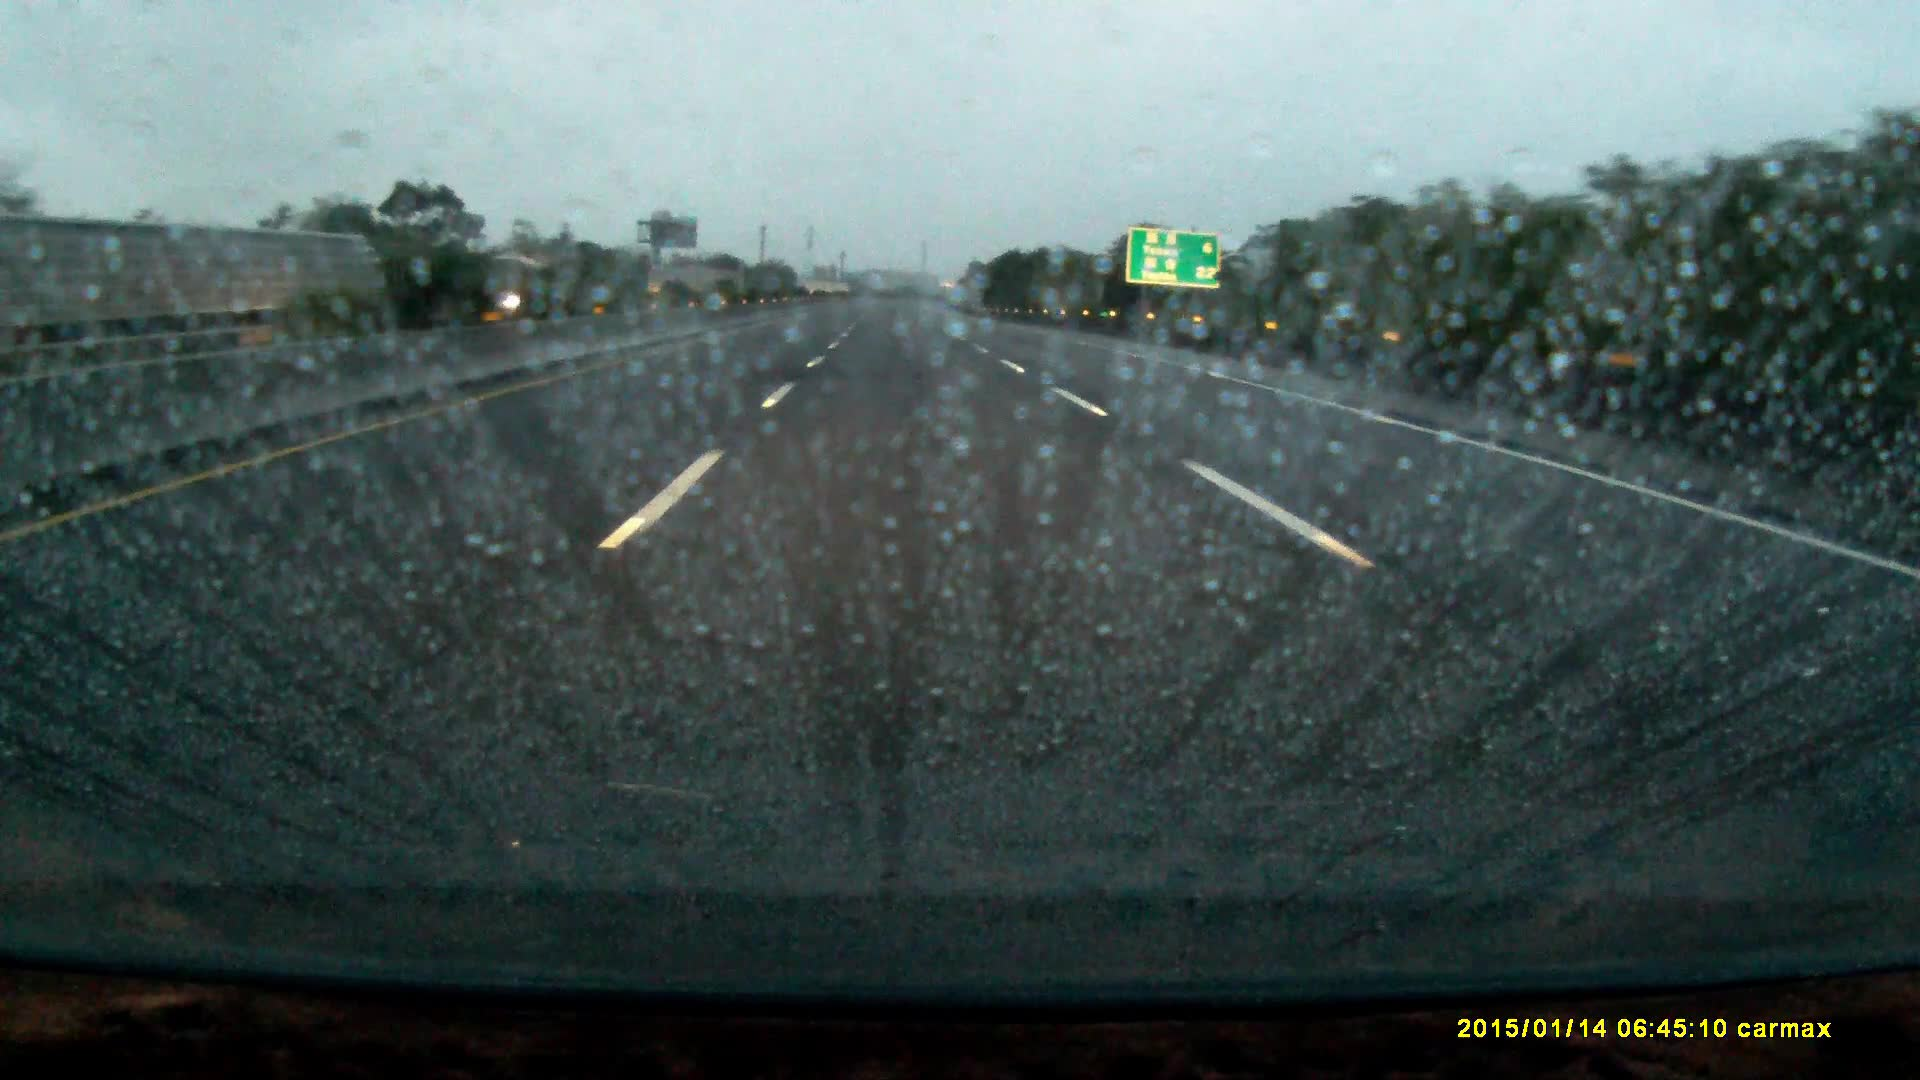vehicle: (468, 256, 570, 313)
